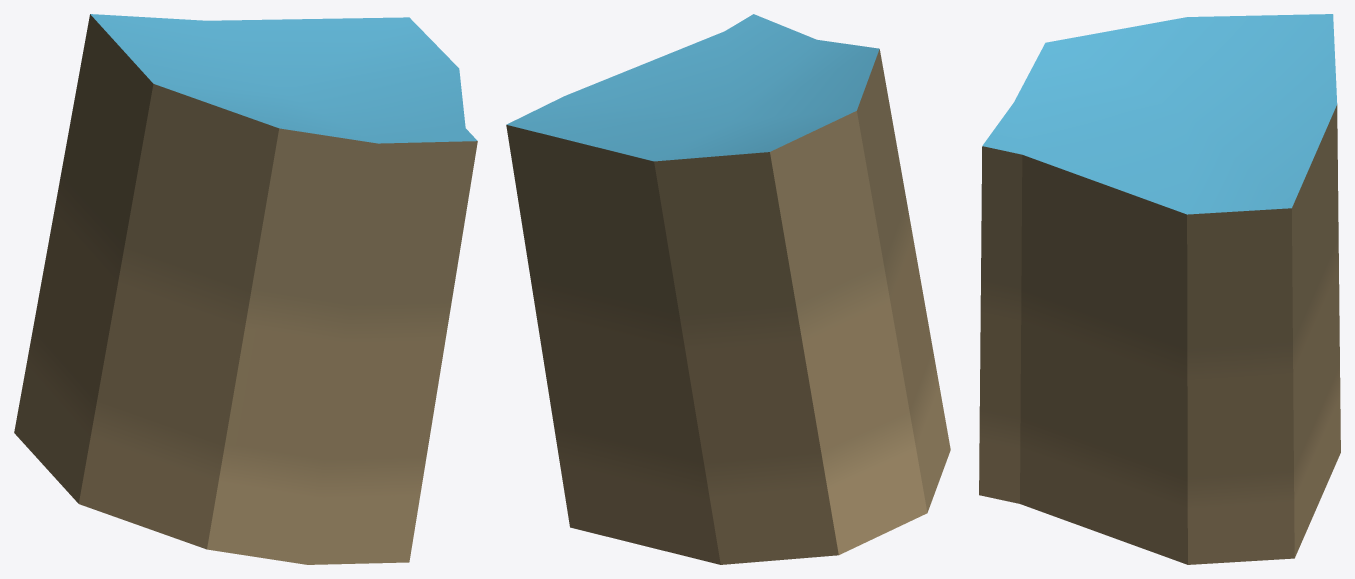
The model's file is 064e_Equatorial_Guinea.glb.
3 renders of one model, left to right at view 1: azimuth 30°, elevation 25°; view 2: azimuth 150°, elevation 25°; view 3: azimuth 270°, elevation 25°, orthographic. The views are drawn at different scales.
Parts seen in each view (by area): view 1: part_0; view 2: part_0; view 3: part_0.
Boxes of the visible parts, x1,y1,x2,y2 form: part_0: [14, 14, 477, 564]; part_0: [506, 14, 950, 564]; part_0: [979, 14, 1340, 564].
Bounding box in the file's own units: 0.1969 × 0.2308 × 0.1691.
1 material, 1 textured.
